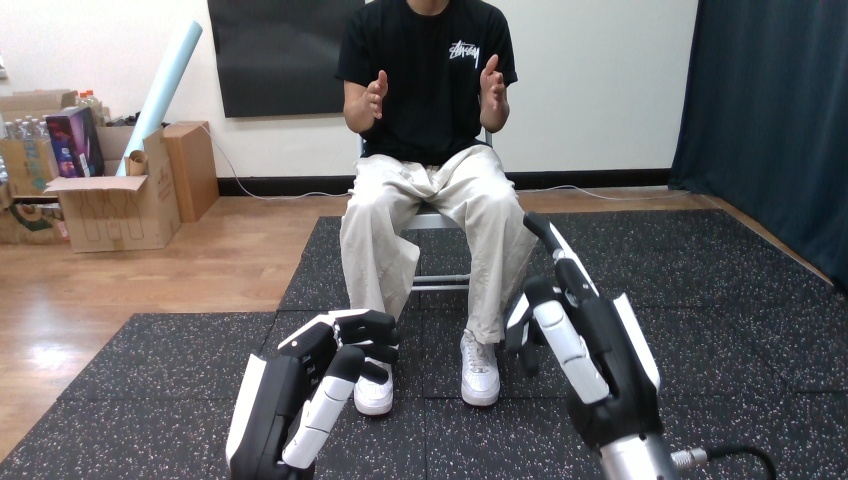left robot arm: (226, 309, 398, 479)
left robot hand: (226, 309, 398, 479)
right robot arm: (505, 212, 774, 479), (226, 309, 398, 479)
right robot hand: (226, 309, 398, 479)
